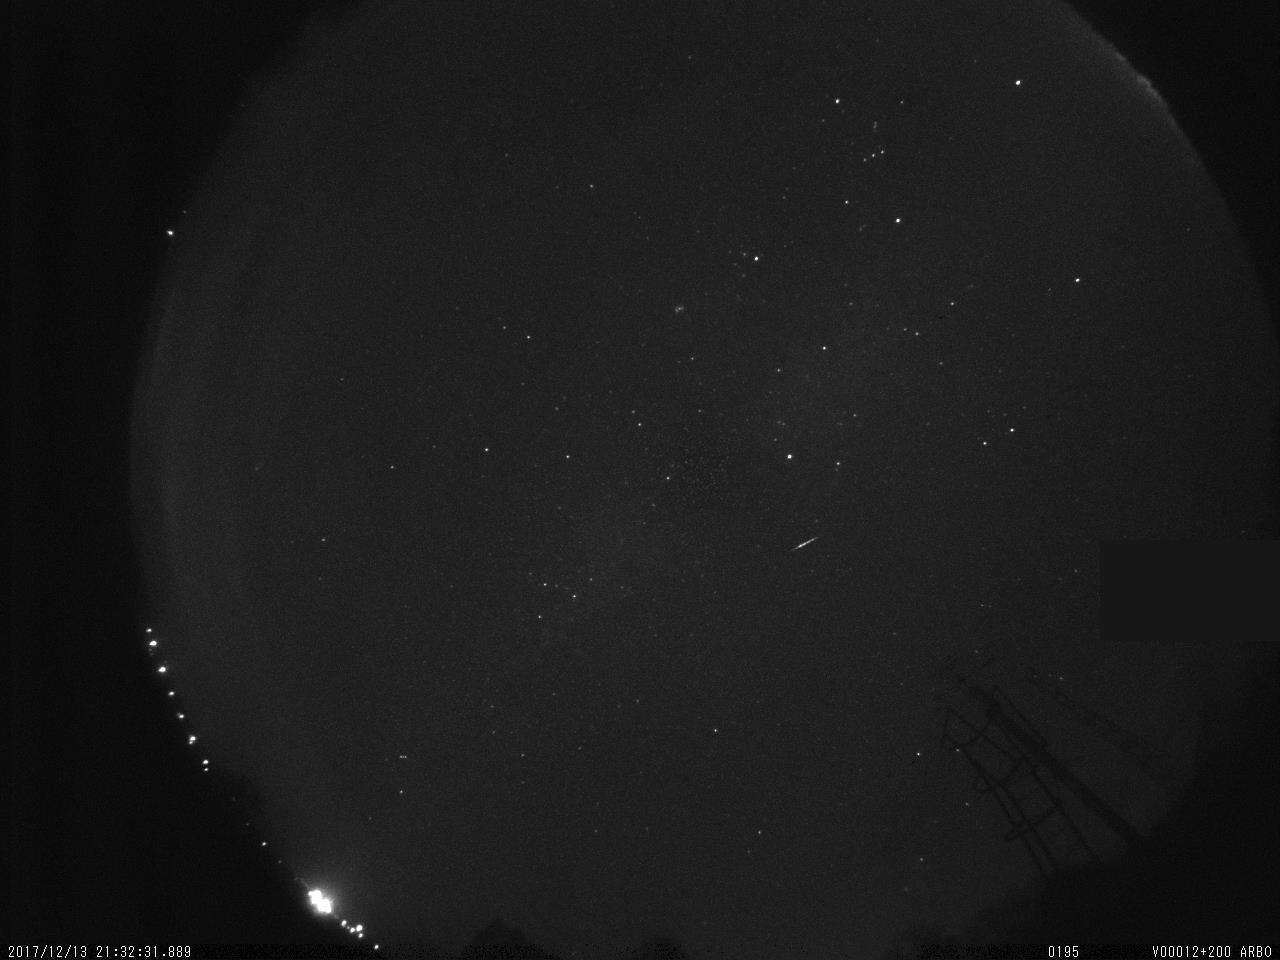meteor: (782, 531, 828, 558)
